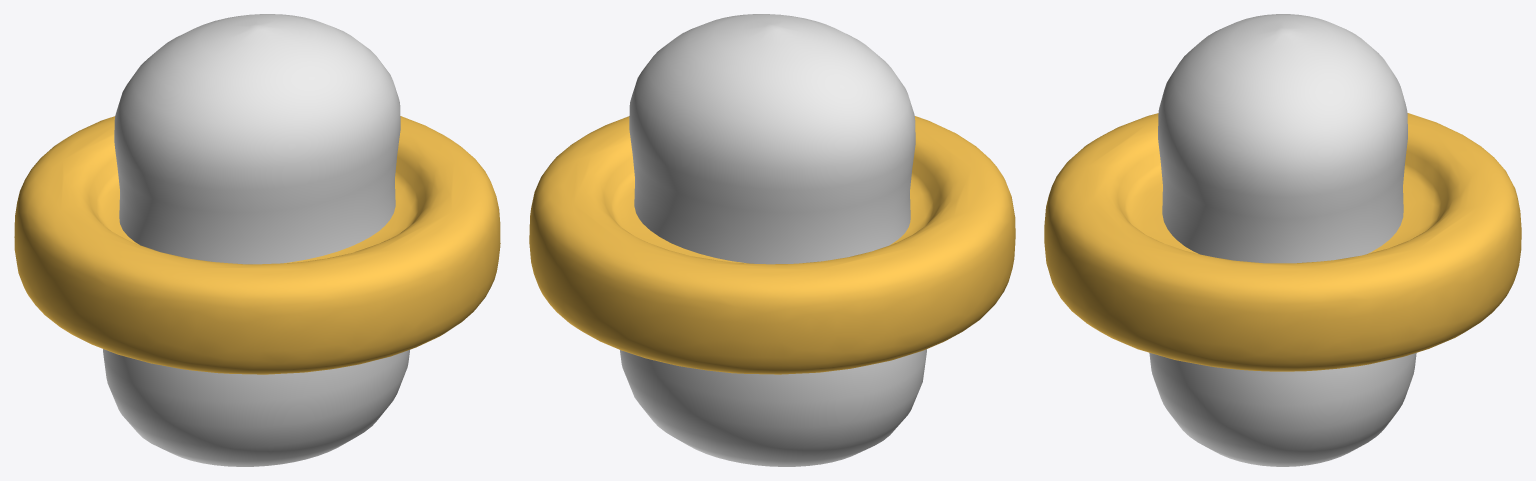
File: SminskiArt.fbx
The picture shows the model from 3 angles, left to right: view 1: azimuth 30°, elevation 25°; view 2: azimuth 150°, elevation 25°; view 3: azimuth 270°, elevation 25°; orthographic projection.
Parts seen in each view (by area): view 1: SminskiTorso, StarCoin; view 2: SminskiTorso, StarCoin; view 3: SminskiTorso, StarCoin.
Part boxes in pixels (x1,y1,x2,y2): SminskiTorso: (103,14,409,466); StarCoin: (14,116,500,374); SminskiTorso: (620,14,926,466); StarCoin: (529,116,1015,374); SminskiTorso: (1149,14,1416,466); StarCoin: (1044,113,1521,371).
Bounding box in the file's own units: 1.99 × 1.88 × 1.99.
